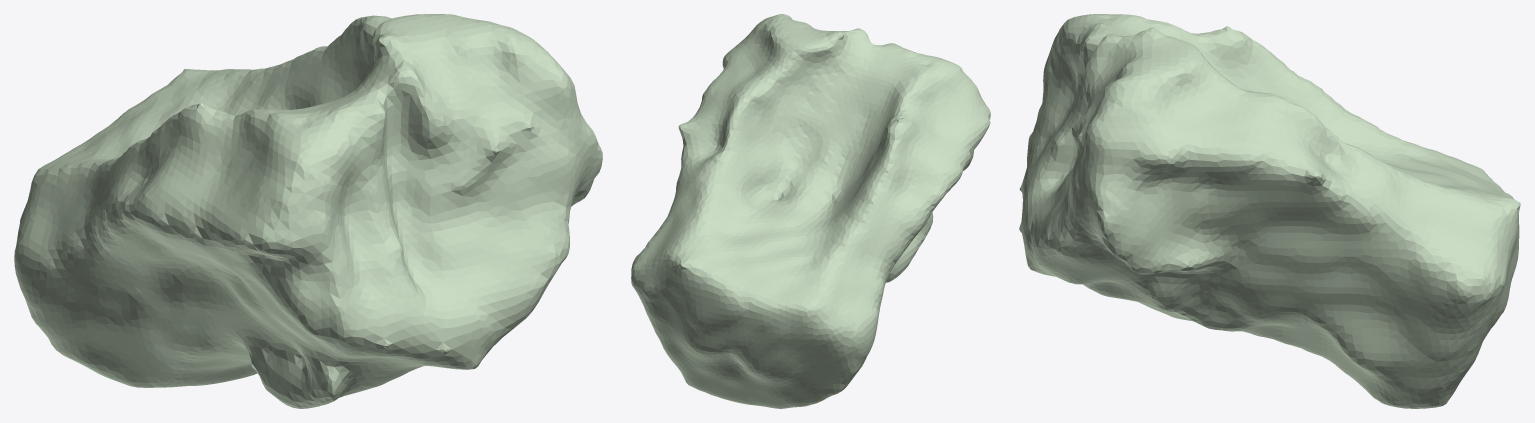
Rendered from Dcent2.glb.
3 renders of one model, left to right at view 1: azimuth 30°, elevation 25°; view 2: azimuth 150°, elevation 25°; view 3: azimuth 270°, elevation 25°, orthographic. The views are drawn at different scales.
Parts seen in each view (by area): view 1: Dcent2; view 2: Dcent2; view 3: Dcent2.
Part boxes in pixels (box(x1,y1,x2,y2)): Dcent2: box(14, 14, 602, 408); Dcent2: box(631, 14, 990, 408); Dcent2: box(1019, 14, 1520, 408).
Bounding box in the file's own units: 0.00333 × 0.00358 × 0.00437.
